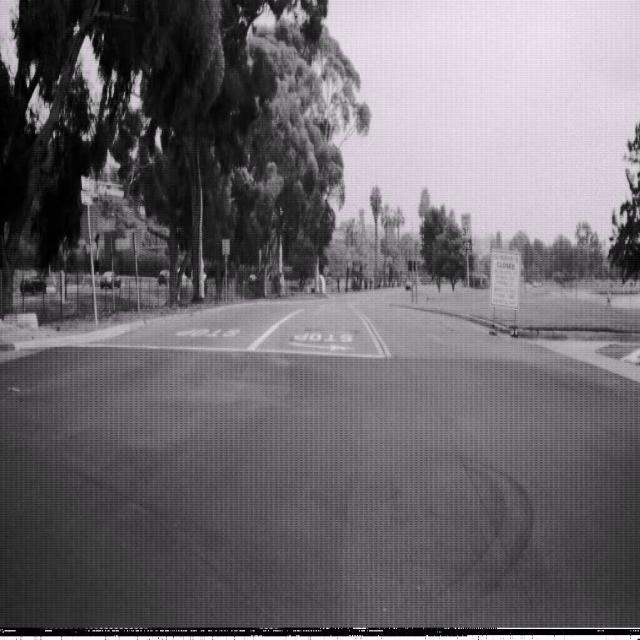speedLimit30: (459, 212, 472, 240)
